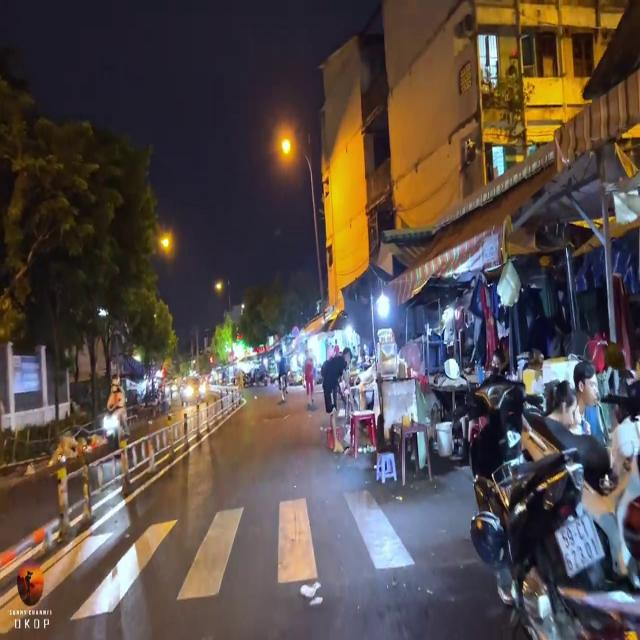bien_trang: (550, 516, 602, 571)
